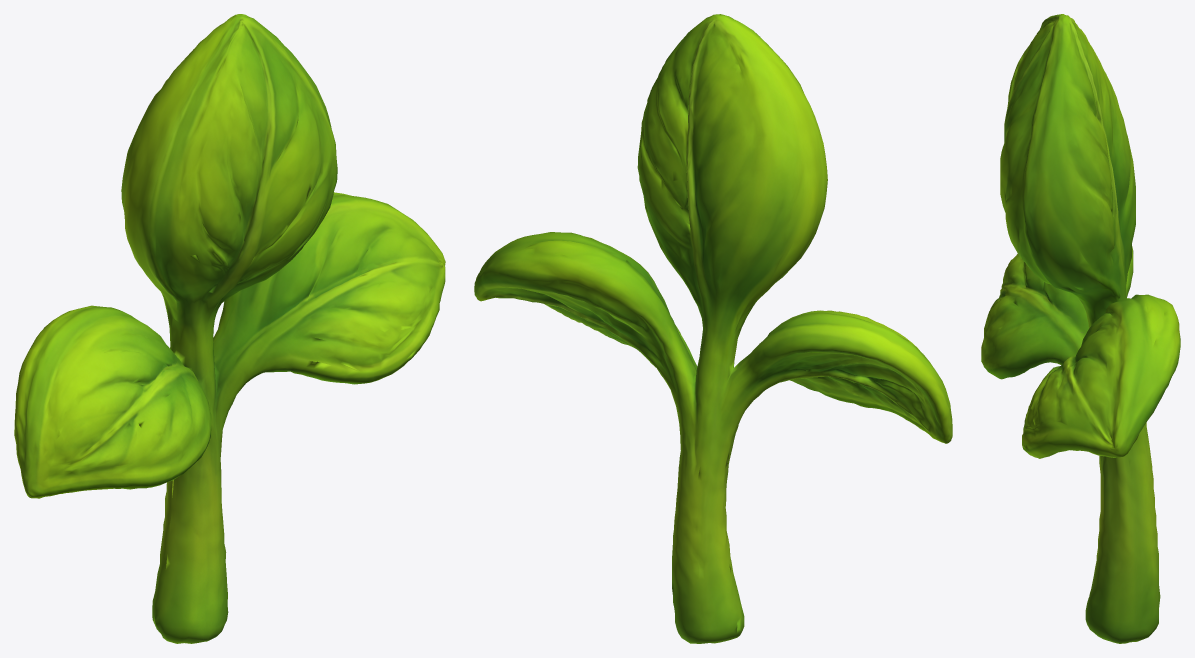
Rendered from crop_sprout.glb.
3 views of the same model, side by side, from view 1: azimuth 30°, elevation 25°; view 2: azimuth 150°, elevation 25°; view 3: azimuth 270°, elevation 25° (orthographic). The views are drawn at different scales.
Visible parts, largest first — view 1: tripo_node_c7805283-316a-4473-8d90-63685c97d408; view 2: tripo_node_c7805283-316a-4473-8d90-63685c97d408; view 3: tripo_node_c7805283-316a-4473-8d90-63685c97d408.
Boxes of the visible parts, x1=… form: tripo_node_c7805283-316a-4473-8d90-63685c97d408: x1=14, y1=14, x2=445, y2=643; tripo_node_c7805283-316a-4473-8d90-63685c97d408: x1=474, y1=14, x2=952, y2=643; tripo_node_c7805283-316a-4473-8d90-63685c97d408: x1=981, y1=14, x2=1180, y2=643.
Size of the model in its own units: 0.7454 by 0.9792 by 0.2817.
1 material, 1 textured.
